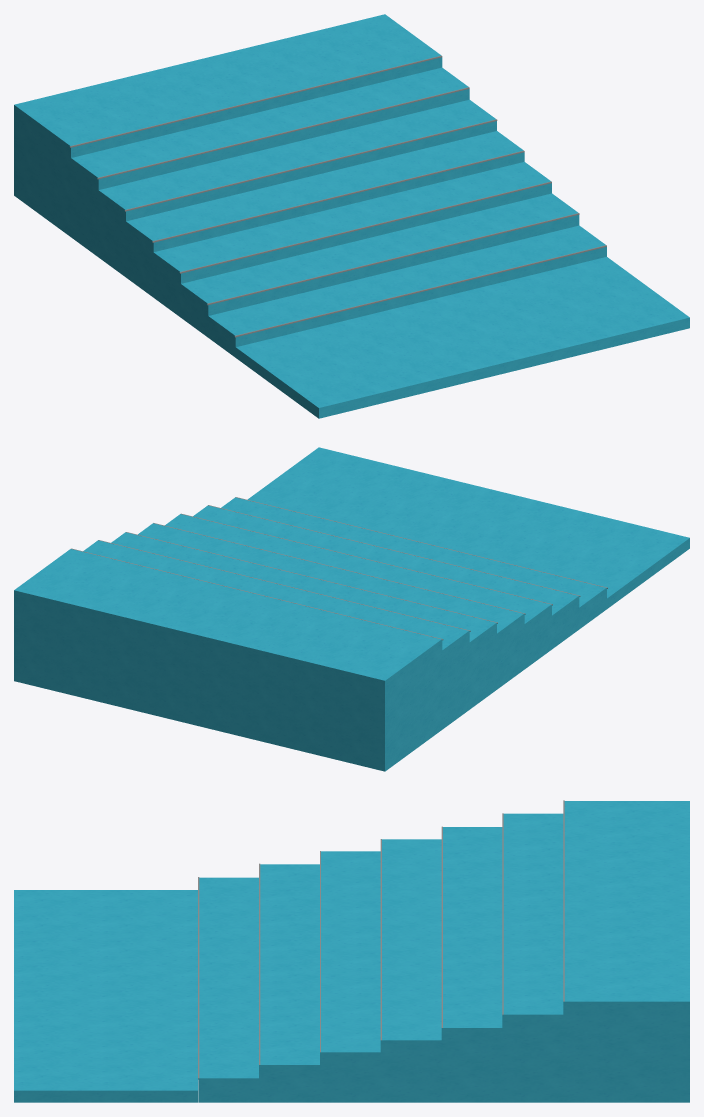
The model's file is Floor.FBX.
3 views of the same model, one above another, from view 1: azimuth 30°, elevation 25°; view 2: azimuth 150°, elevation 25°; view 3: azimuth 270°, elevation 25° (orthographic). The views are drawn at different scales.
Visible parts, largest first — view 1: floor; view 2: floor; view 3: floor.
Part boxes in pixels (left/top/right/bottom): floor: left=14, top=14, right=689, bottom=418; floor: left=14, top=447, right=689, bottom=771; floor: left=14, top=800, right=689, bottom=1102.
Bounding box in the file's own units: 916 × 214 × 1299.
Materials: 2 (1 with a texture image).
